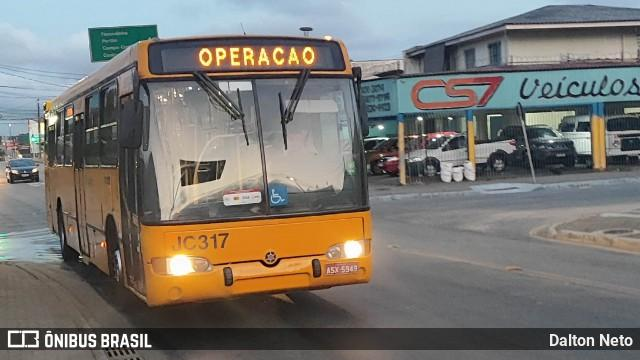OPERACAO: (192, 45, 320, 72)
